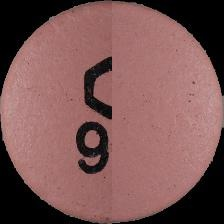59762-6692: (0, 0, 224, 224)
